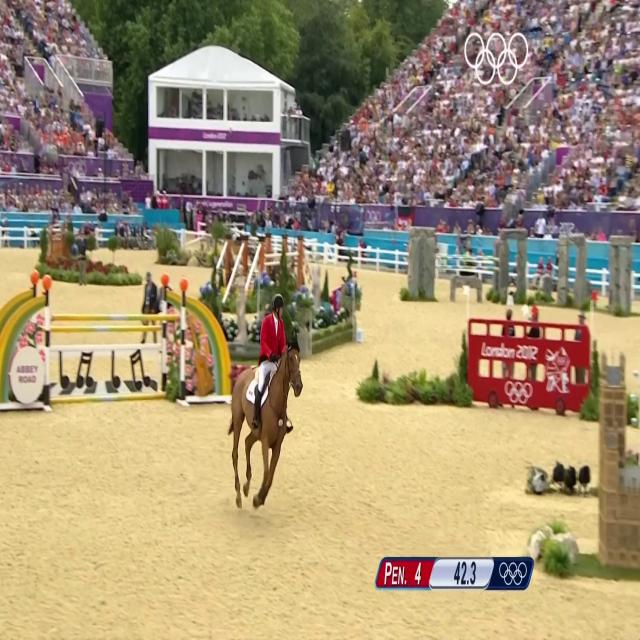Horse Rider: (257, 276, 292, 378)
Horse Running: (228, 335, 305, 534)
